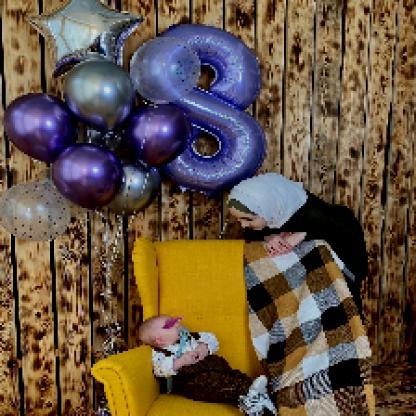child: (137, 315, 273, 416)
